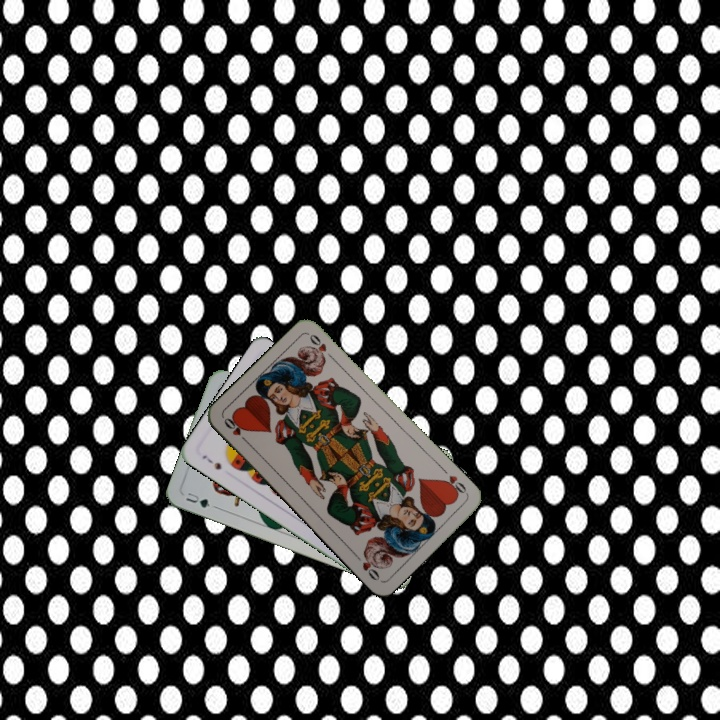GU: (182, 488, 213, 510)
HO: (220, 414, 252, 446), (438, 471, 470, 499)
S7: (198, 451, 224, 473)
